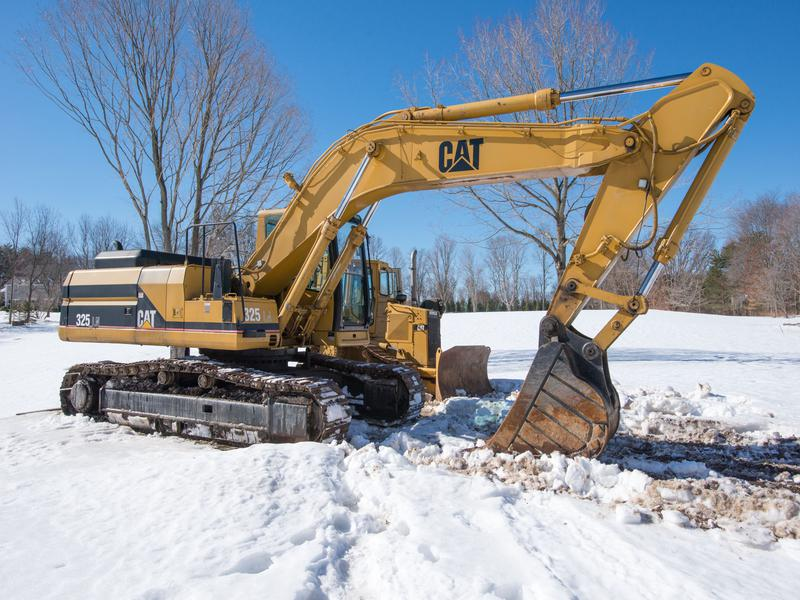shovel: (49, 58, 763, 460)
